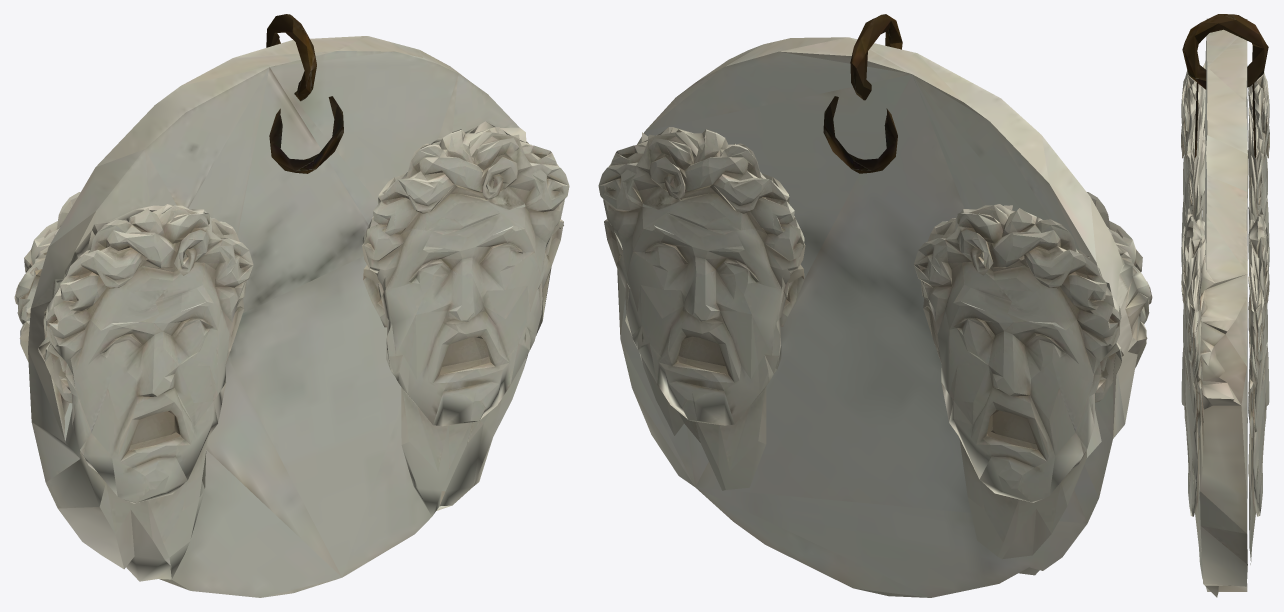
The model's file is oscillum.glb.
3 views of the same model, side by side, from view 1: azimuth 30°, elevation 25°; view 2: azimuth 150°, elevation 25°; view 3: azimuth 270°, elevation 25° (orthographic). The views are drawn at different scales.
Parts seen in each view (by area): view 1: oscillum; view 2: oscillum; view 3: oscillum.
Boxes of the visible parts, x1=… form: oscillum: x1=14, y1=14, x2=569, y2=597; oscillum: x1=598, y1=14, x2=1152, y2=597; oscillum: x1=1181, y1=14, x2=1269, y2=597.
Size of the model in its own units: 0.42 by 0.4341 by 0.0635.
Materials: 1 (1 with a texture image).
